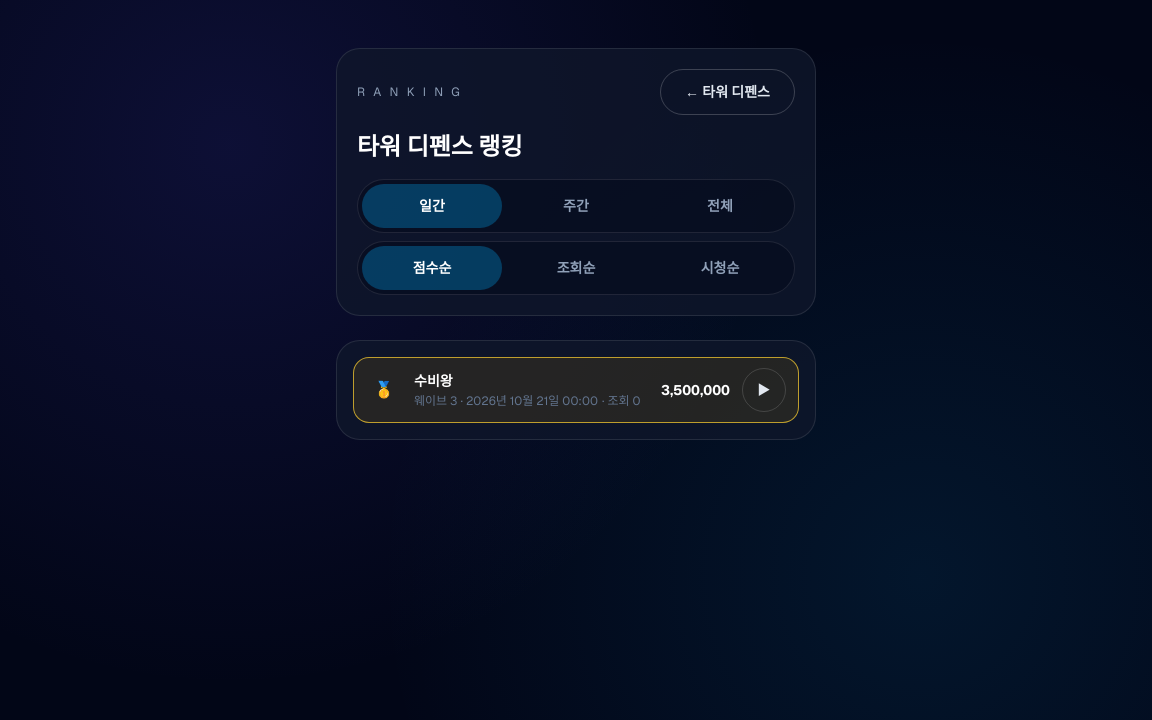
Test: RankingsView — 게임 사양을 따른다 › 조회순·시청순은 인기 리플레이를 같은 기간·보드로 부르고 기간 지표를 보인다, "상위 50위 밖" 안내는 하지 않는다
Click the button "주간" at point(576, 206), box [506,184,646,228]
Wait 250 ms
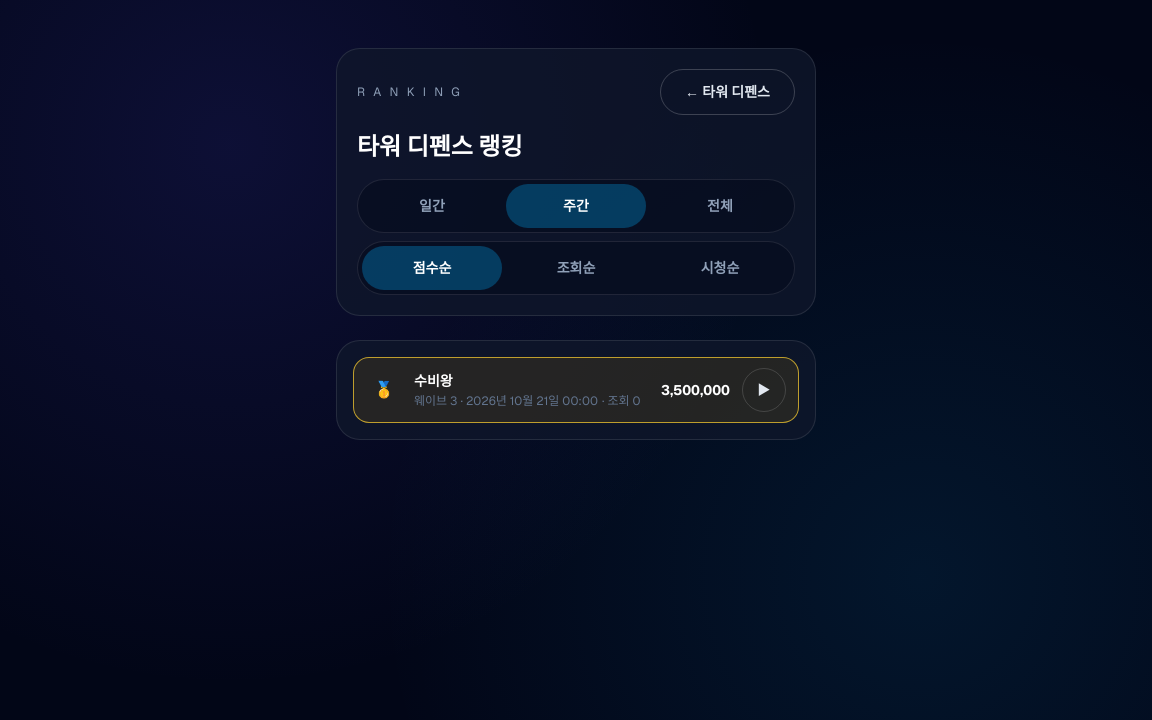
Click the button "조회순" at point(576, 268), box [506,246,646,290]
Wait 250 ms
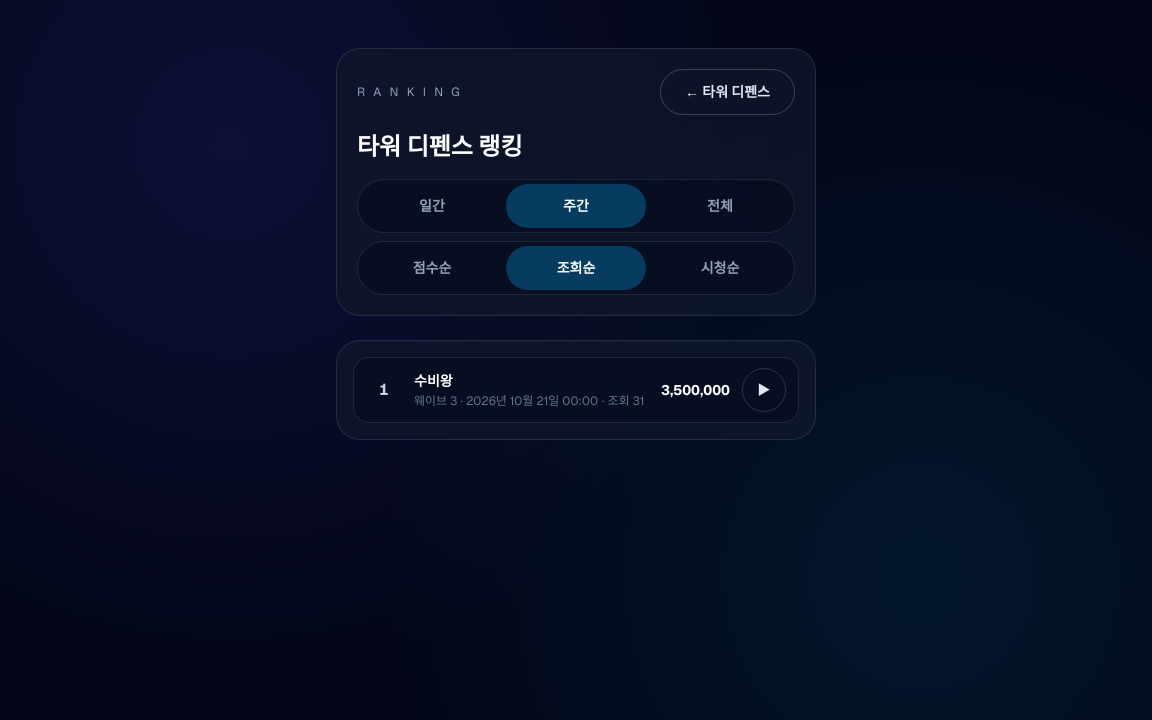
Now the text "· 조회 31" is shown, box [602,393,644,409]
Now the text "🥇" is gone
Now the text "1" is shown, box [379,379,389,400]
Click the button "시청순" at point(720, 268), box [650,246,790,290]
Wait 250 ms
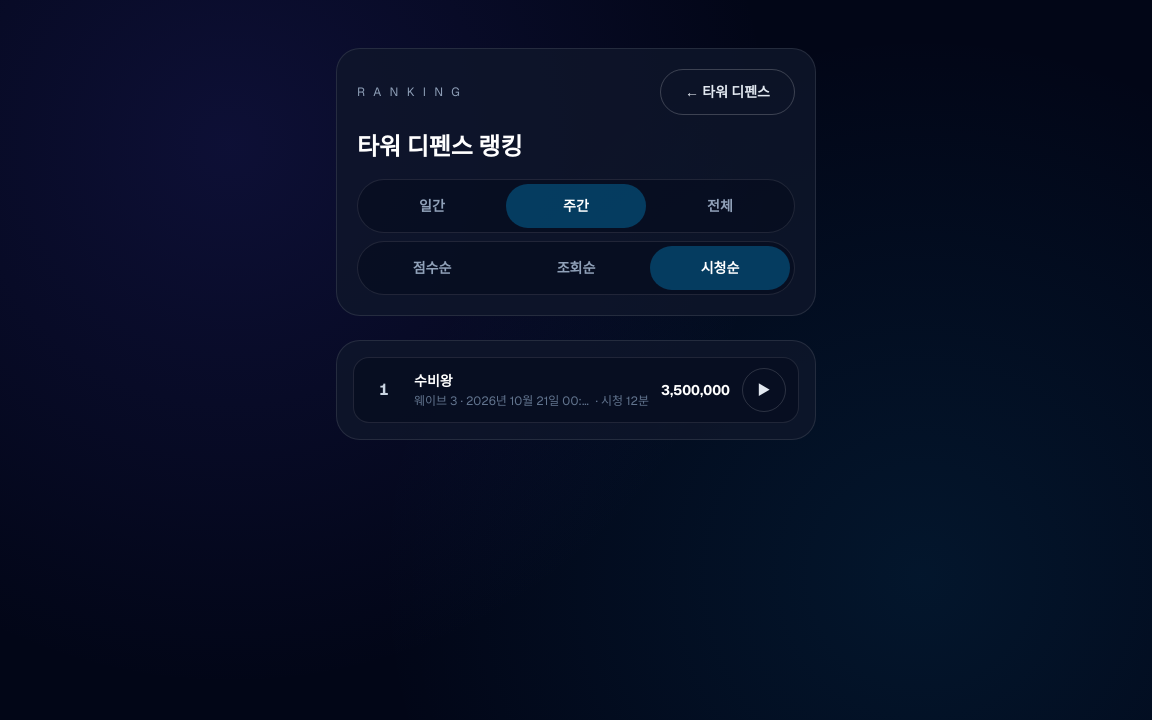
Now the text "· 시청 12분" is shown, box [596,393,649,409]
Click the button "전체" at point(720, 206), box [650,184,790,228]
Wait 250 ms
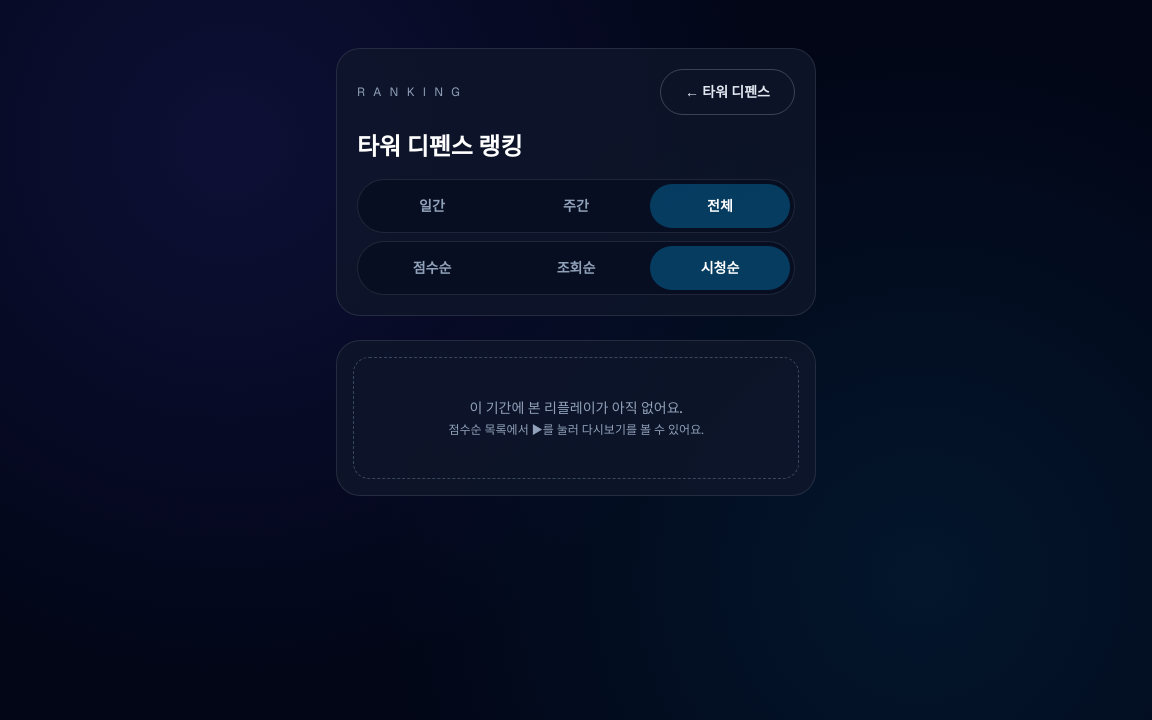
Now the text "이 기간에 본 리플레이가 아직 없어요." is shown, box [469,399,683,417]
